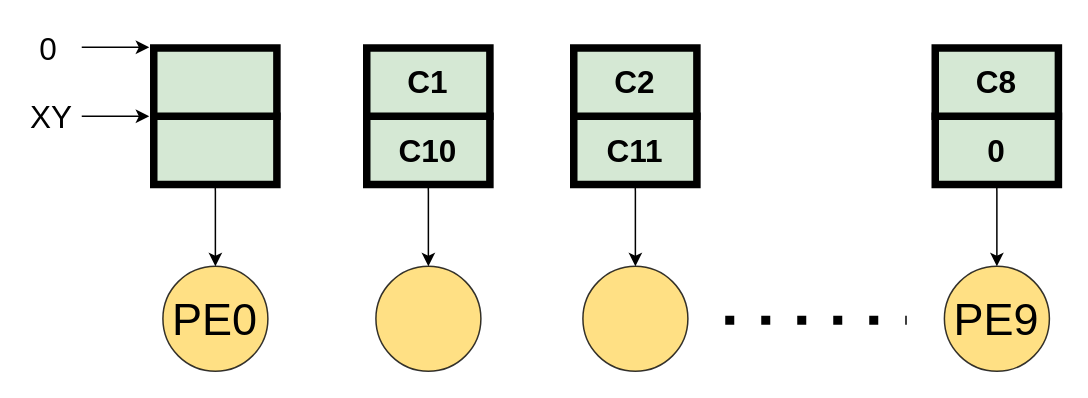
This 1088x398 diagram has some shape labels left out. Each missing label, with the centre of its shape:
"C0" goes at [214,81].
"C9" goes at [214,150].
"PE1" goes at [427,318].
"PE2" goes at [634,318].
